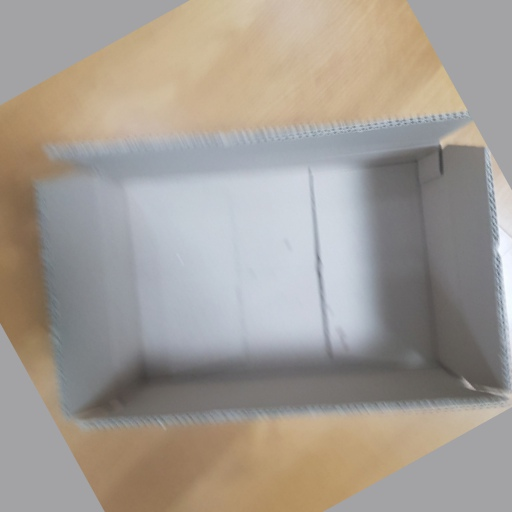Paper_0: (27, 110, 512, 434)
